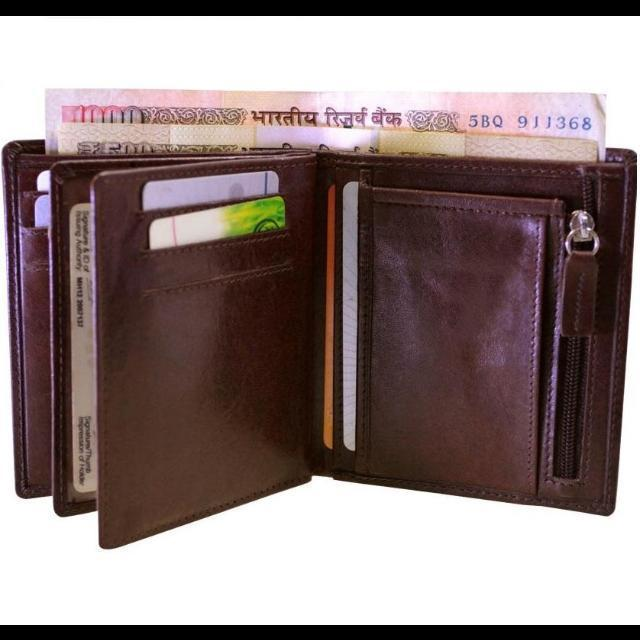wallet: (3, 130, 639, 542)
